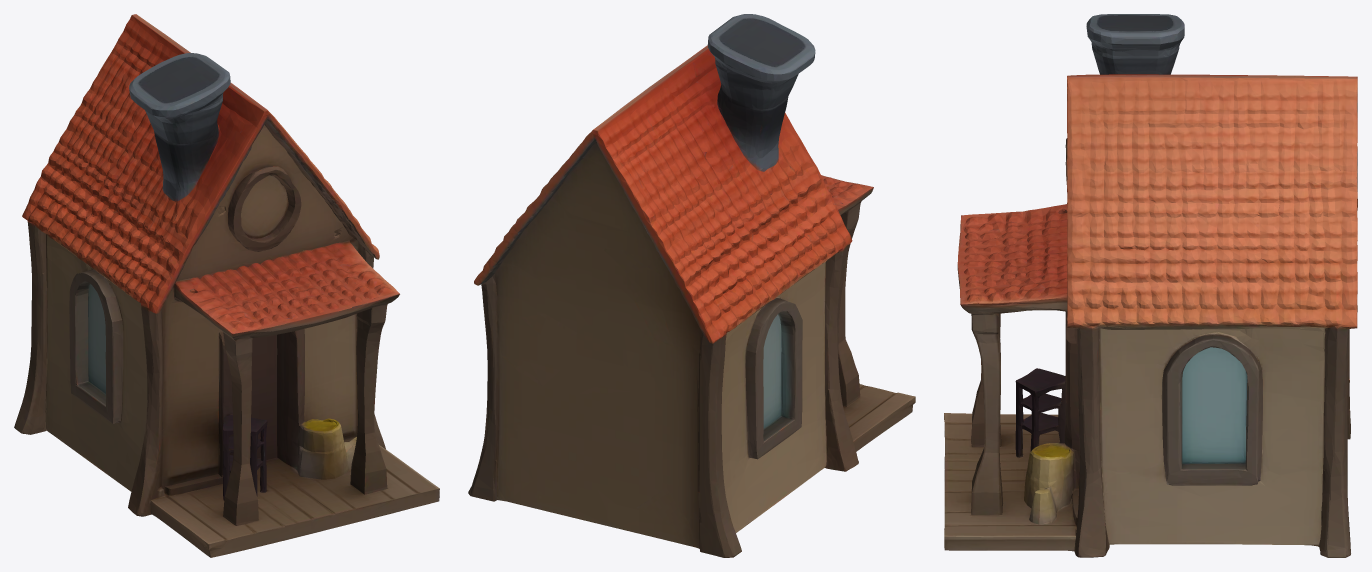
Rendered from 3deditformer_t04.glb.
3 renders of one model, left to right at view 1: azimuth 30°, elevation 25°; view 2: azimuth 150°, elevation 25°; view 3: azimuth 270°, elevation 25°, orthographic. The views are drawn at different scales.
Visible parts, largest first — view 1: geometry_0; view 2: geometry_0; view 3: geometry_0.
Boxes of the visible parts, box(x1,y1,x2,y2) form: geometry_0: box(14, 14, 439, 557); geometry_0: box(468, 14, 915, 557); geometry_0: box(944, 14, 1357, 557).
Bounding box in the file's own units: 0.729 × 1.13 × 0.949.
Materials: 1 (1 with a texture image).
